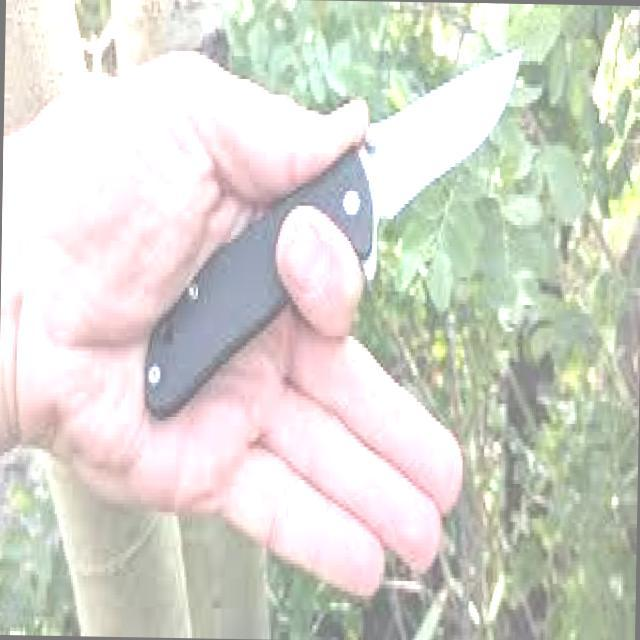Knife: (138, 24, 526, 424)
